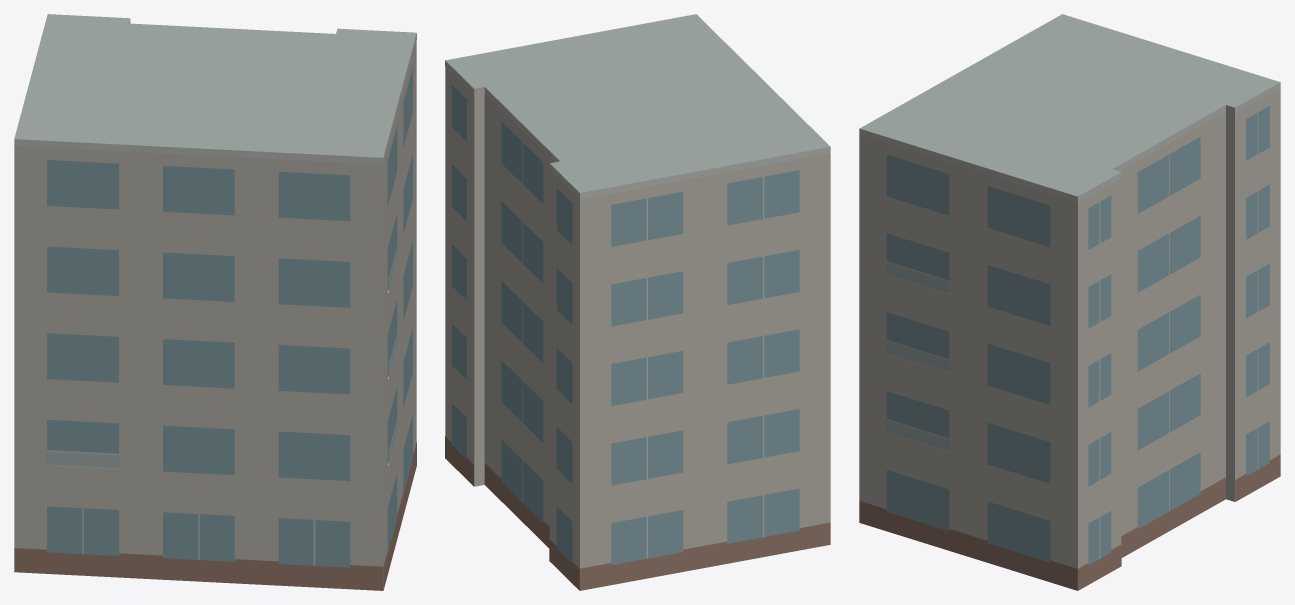
Rendered from survey-upis-32640611.glb.
The picture shows the model from 3 angles, left to right: view 1: azimuth 30°, elevation 25°; view 2: azimuth 150°, elevation 25°; view 3: azimuth 270°, elevation 25°; orthographic projection. The views are drawn at different scales.
Parts seen in each view (by area): view 1: survey-upis-32640611.tmp; view 2: survey-upis-32640611.tmp; view 3: survey-upis-32640611.tmp.
Part boxes in pixels (left/top/right/bottom): survey-upis-32640611.tmp: left=14, top=14, right=416, bottom=590; survey-upis-32640611.tmp: left=445, top=14, right=830, bottom=590; survey-upis-32640611.tmp: left=859, top=14, right=1280, bottom=590.
Bounding box in the file's own units: 15.16 × 15.25 × 14.77.
